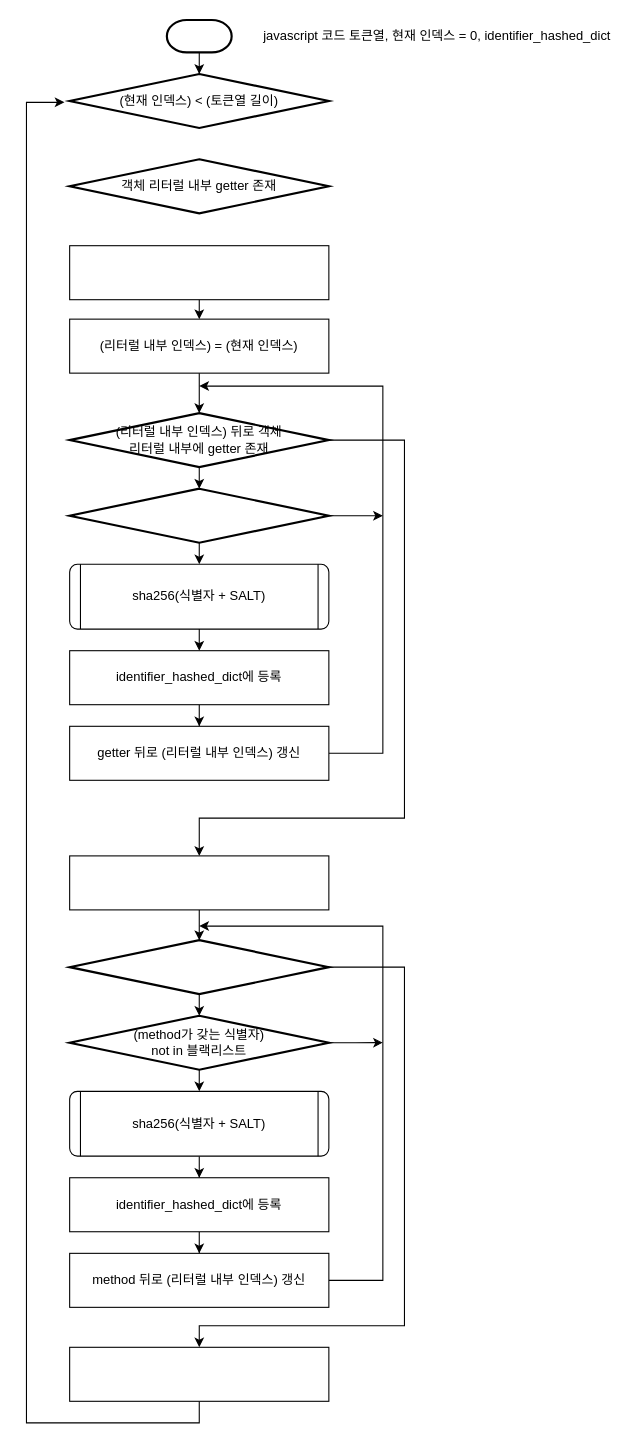
Some shapes in this 639 by 1450 pixel diagram are drawn without their labels. Here are the shapes that lost their labels. From the top down, the centre of each, then its label:
the point at 198,35: 시작
the point at 199,272: 현재 인덱스 뒤로 객체 리터럴 시작 위치 탐색 (리터럴 시작 인덱스) = (탐색된 인덱스)
the point at 198,515: (getter가 갖는 식별자) not in 블랙리스트
the point at 199,882: (리터럴 내부 인덱스) = (리터럴 시작 인덱스)
the point at 198,967: (리터럴 내부 인덱스) 뒤로 객체 리터럴 내부에 method 존재
the point at 199,1373: (현재 인덱스) = (리터럴 내부 인덱스)
